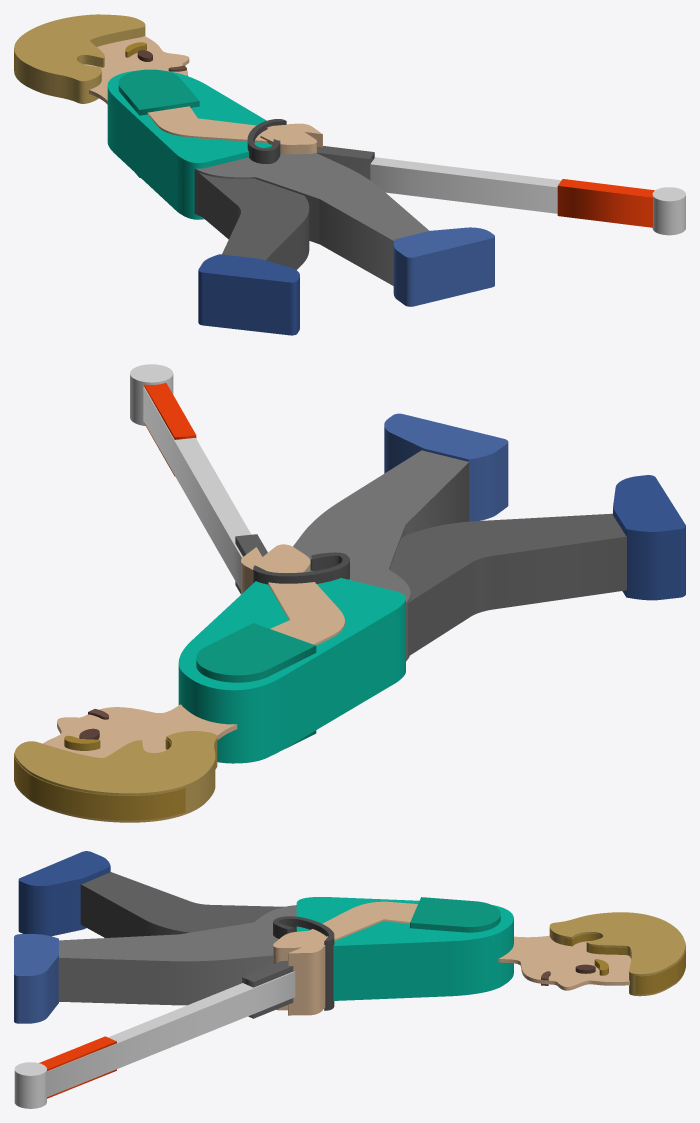
The model's file is emoji_u1f468_1f3fc_200d_1f9af_200d_27a1.glb.
The picture shows the model from 3 angles, top to bottom: view 1: azimuth 30°, elevation 25°; view 2: azimuth 150°, elevation 25°; view 3: azimuth 270°, elevation 25°; orthographic projection. The views are drawn at different scales.
Parts seen in each view (by area): view 1: emoji_u1f468_1f3fc_200d_1f9af_200d_27a1; view 2: emoji_u1f468_1f3fc_200d_1f9af_200d_27a1; view 3: emoji_u1f468_1f3fc_200d_1f9af_200d_27a1.
Boxes of the visible parts, bbox=[...] form: emoji_u1f468_1f3fc_200d_1f9af_200d_27a1: bbox=[14, 14, 685, 335]; emoji_u1f468_1f3fc_200d_1f9af_200d_27a1: bbox=[14, 364, 685, 822]; emoji_u1f468_1f3fc_200d_1f9af_200d_27a1: bbox=[14, 851, 685, 1108].
Bounding box in the file's own units: 0.0252 × 0.0038 × 0.0332.
